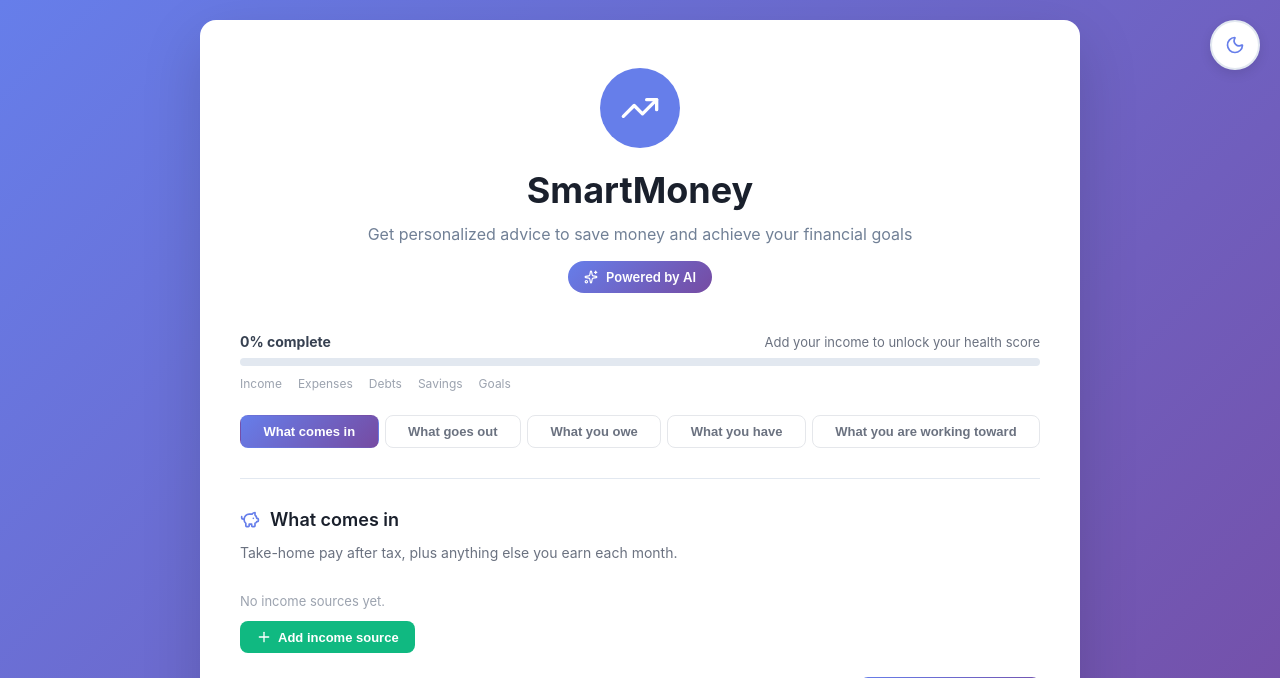
intake wizard › offers every step and lets the user jump between them
Expected: the button "What comes in" is shown, [240, 415, 379, 448]
Expected: the button "What goes out" is shown, [385, 415, 521, 448]
Click the button "What you owe" at (594, 432), box [527, 415, 661, 448]
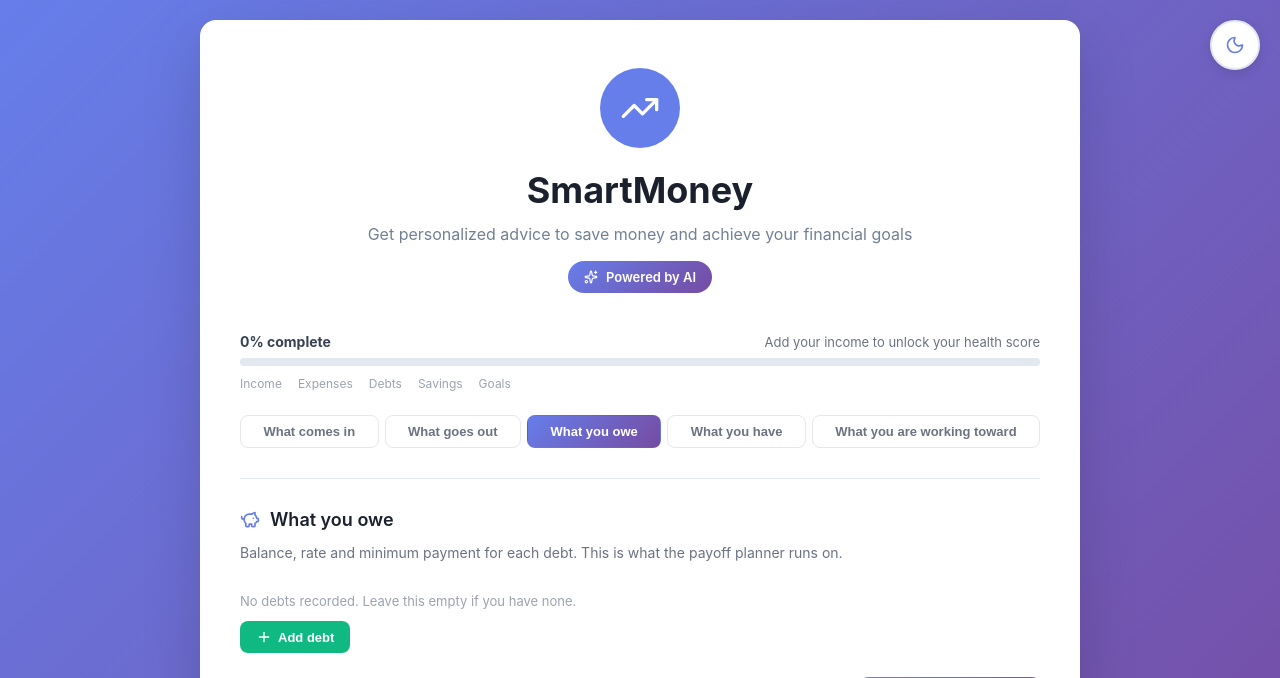
Expected: the button "Add debt" is shown, [240, 621, 350, 653]
